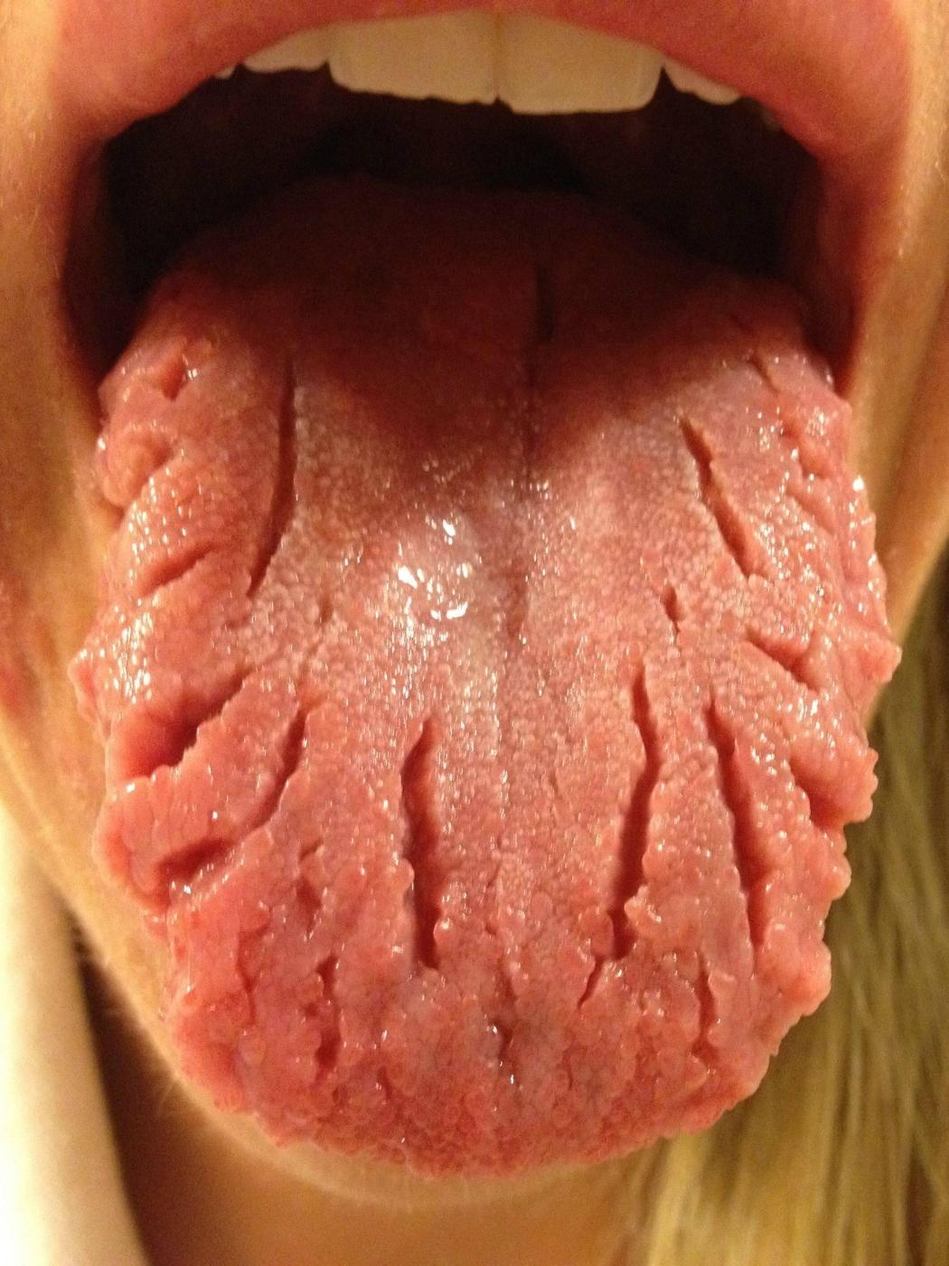hongshe: (72, 317, 903, 1182)
liewenshe: (80, 316, 456, 1095), (573, 341, 892, 1104)
